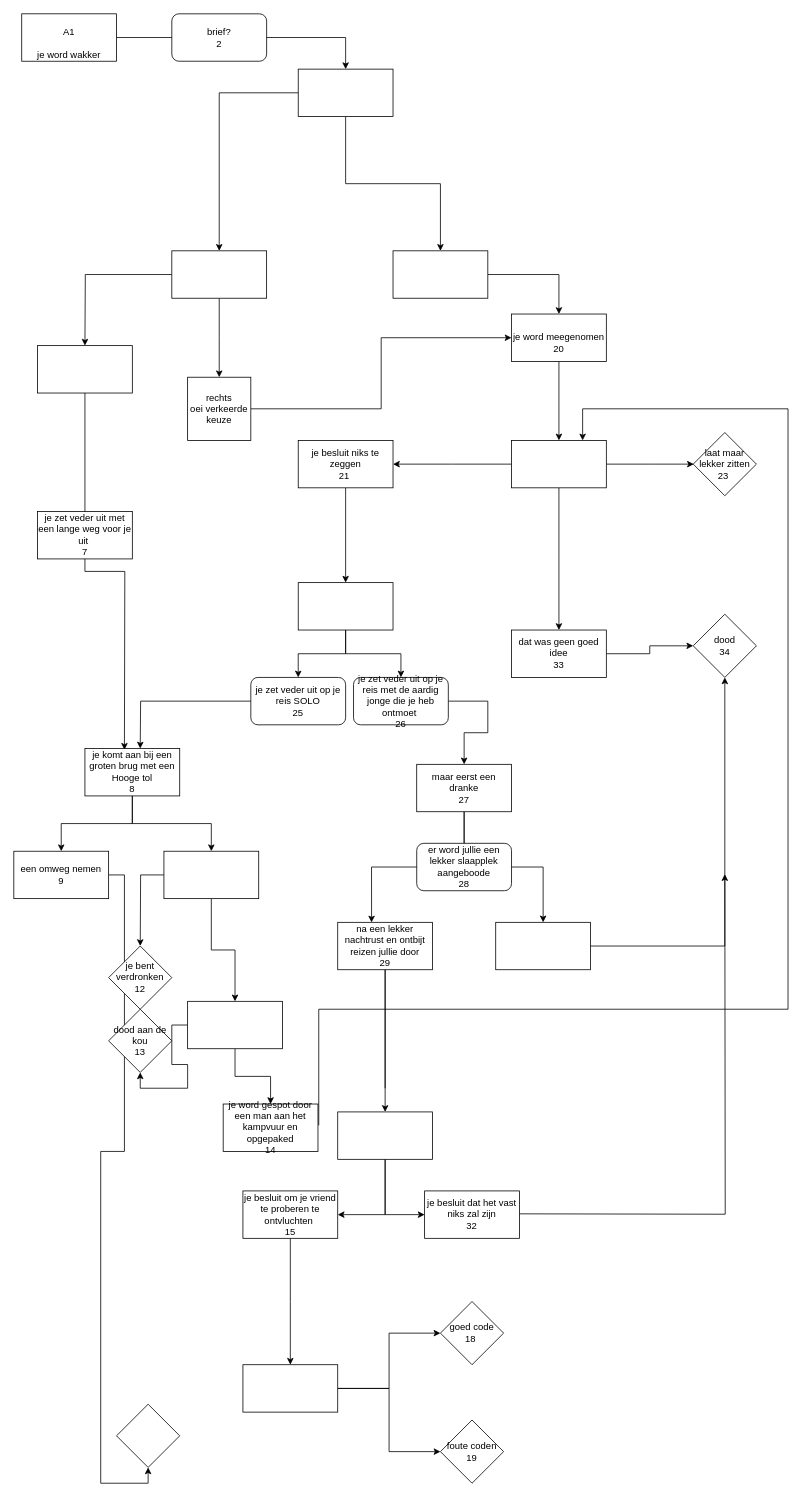
This 808x1503 diagram has some shape labels left out. The shapes that lost their labels are listed below. From the top down, each one's centre as x and y in pixels, then its label:
(345,92): speciale code wat doe je nu 3
(219,274): Rennen!!! 4
(440,274): overgeven 5
(84,369): links 6
(558,464): je word ondervraagt 22
(345,606): geen nut je mag er vandoor 24
(211,874): je besluit om door het water te zwemmen 10
(543,946): je word verraadden door je kameraad en vemoord in je slaap 30
(234,1025): je bent nu lekker nat maar je bent nu wel aan de overkant 11
(385,1135): er is iets niet goed 31
(290,1388): het is gelukt je bent er eindelijk nu al die tijd ben je er 16
(148,1435): te laat 17
